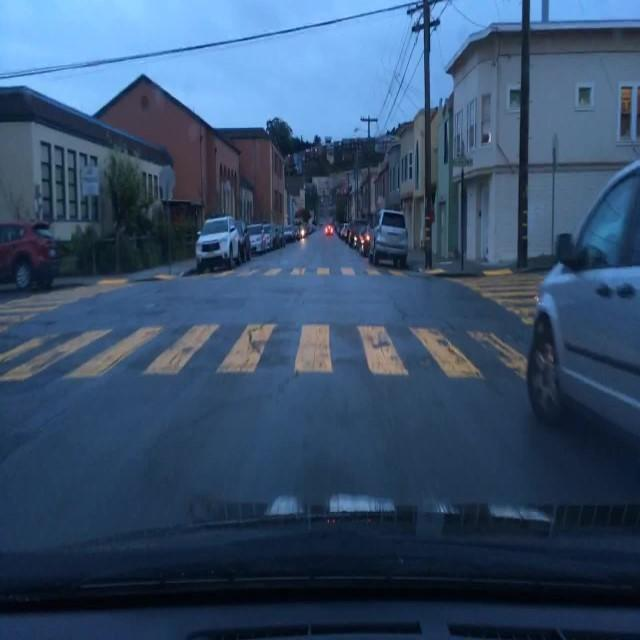normal: (167, 186, 436, 312)
